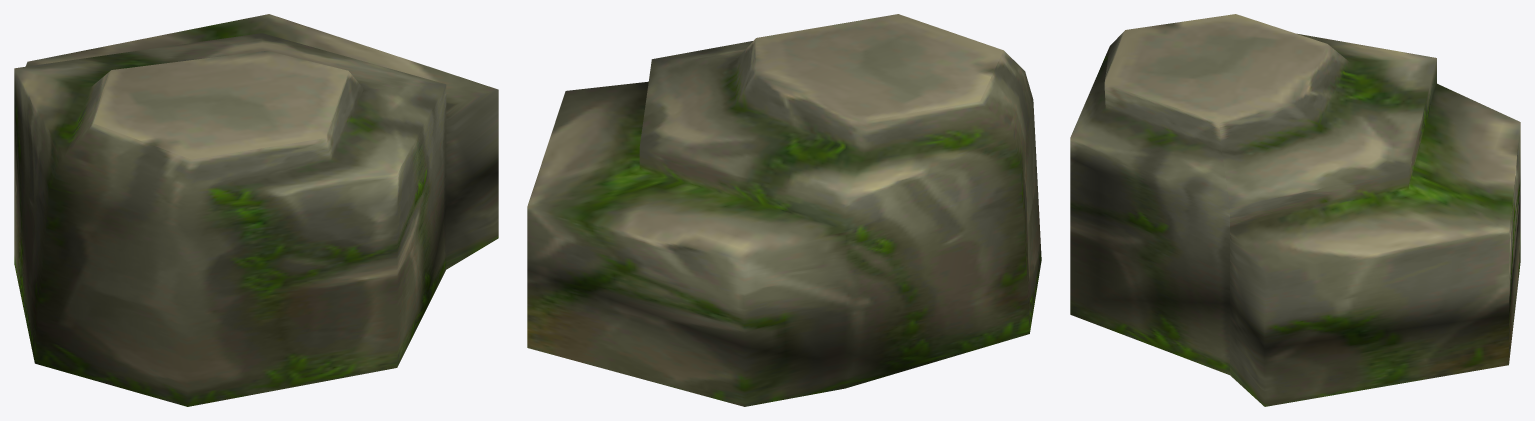
Rendered from RockFormation_4_5 (34).fbx.
3 views of the same model, side by side, from view 1: azimuth 30°, elevation 25°; view 2: azimuth 150°, elevation 25°; view 3: azimuth 270°, elevation 25° (orthographic). The views are drawn at different scales.
Visible parts, largest first — view 1: RockFormation_4_5 (34); view 2: RockFormation_4_5 (34); view 3: RockFormation_4_5 (34).
Boxes of the visible parts, bbox=[...] form: RockFormation_4_5 (34): bbox=[14, 14, 498, 406]; RockFormation_4_5 (34): bbox=[527, 14, 1041, 406]; RockFormation_4_5 (34): bbox=[1070, 14, 1520, 406].
Bounding box in the file's own units: 261 × 120 × 236.
